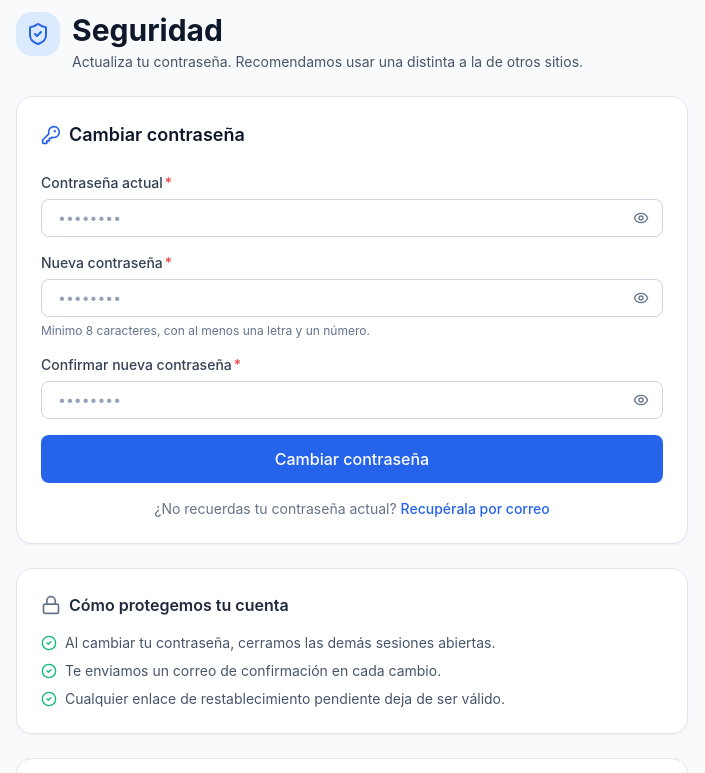
SecuritySettings › cambia la contraseña y actualiza el token de sesión
Type "Actual123" into the password field labelled "Contraseña actual*". click: (352, 218)
box: [41, 199, 663, 237]
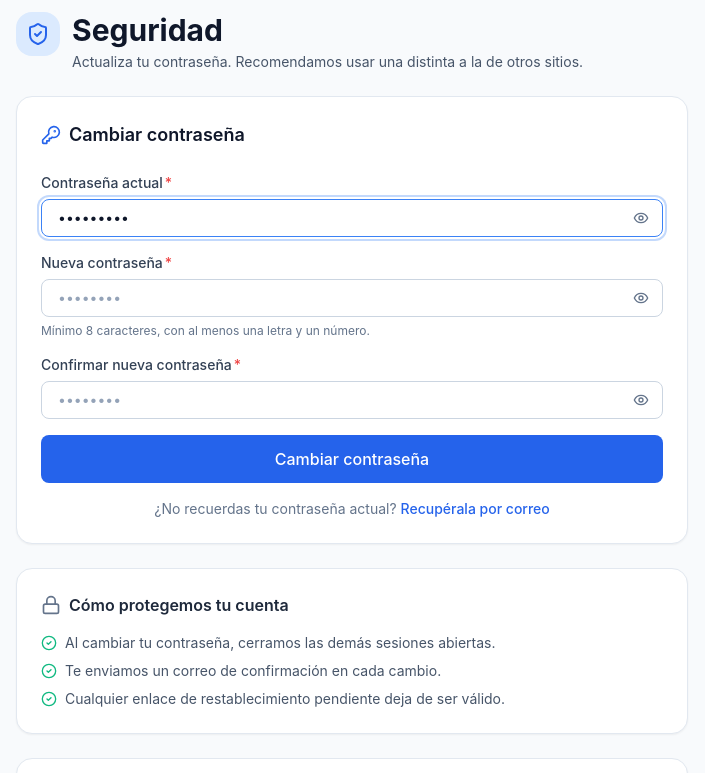
Type "NuevaPass123" into the password field labelled "Nueva contraseña*". click: (352, 298)
box: [41, 279, 663, 317]
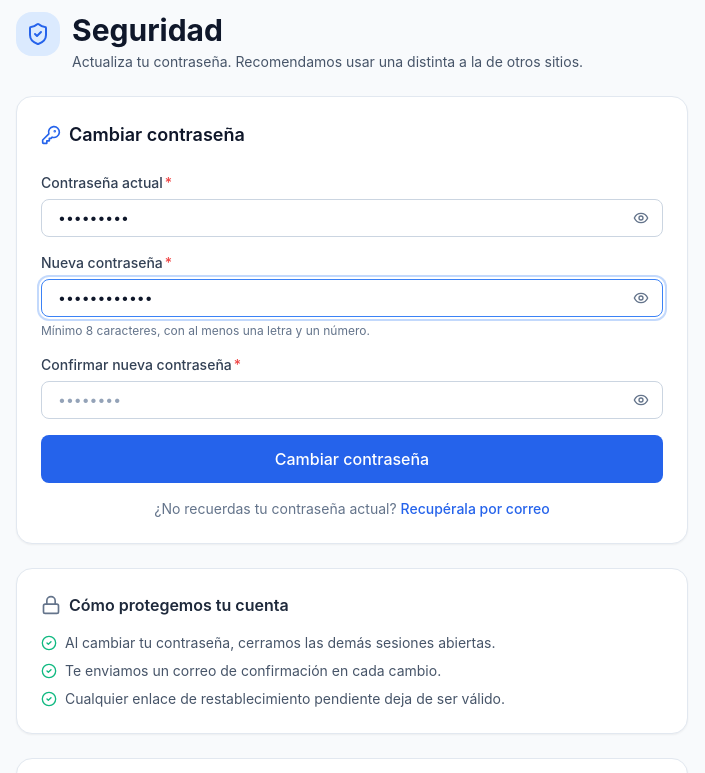
Type "NuevaPass123" into the password field labelled "Confirmar nueva contraseña*". click: (352, 400)
box: [41, 381, 663, 419]
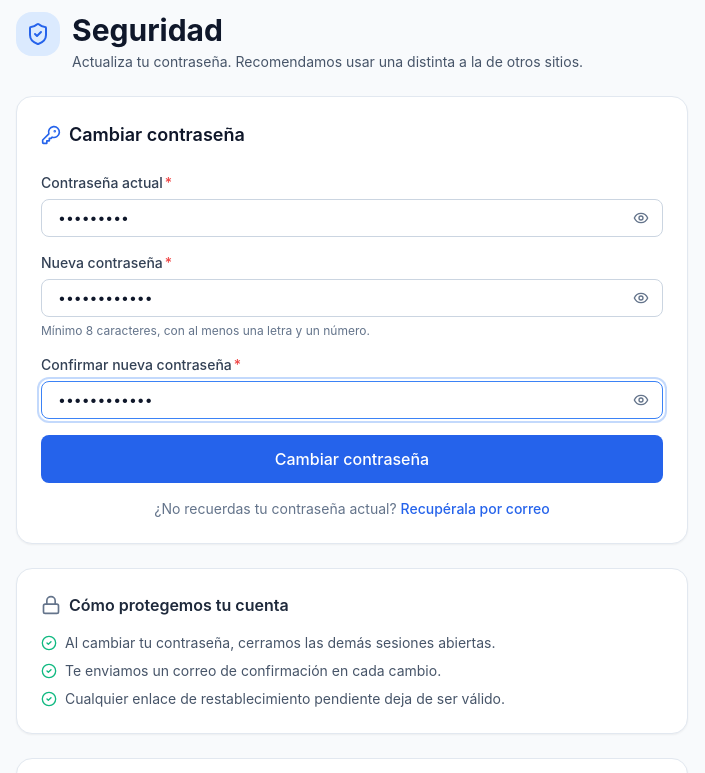
Click the button "Cambiar contraseña". click: (352, 459)
box: [41, 435, 663, 483]
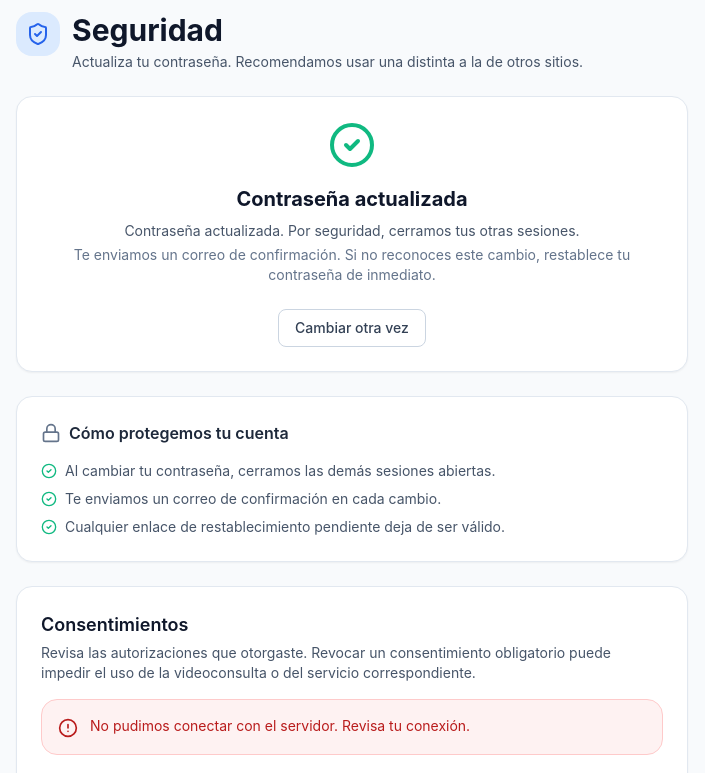
Expected: the heading "Contraseña actualizada" is shown, [236, 187, 468, 211]
